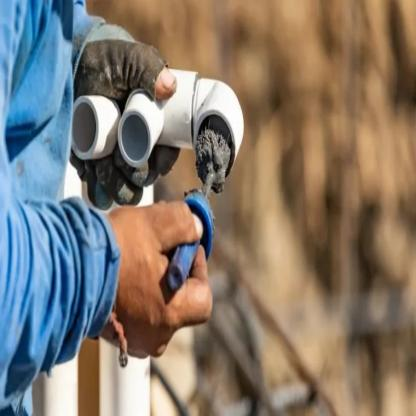PVC: (71, 66, 244, 176)
